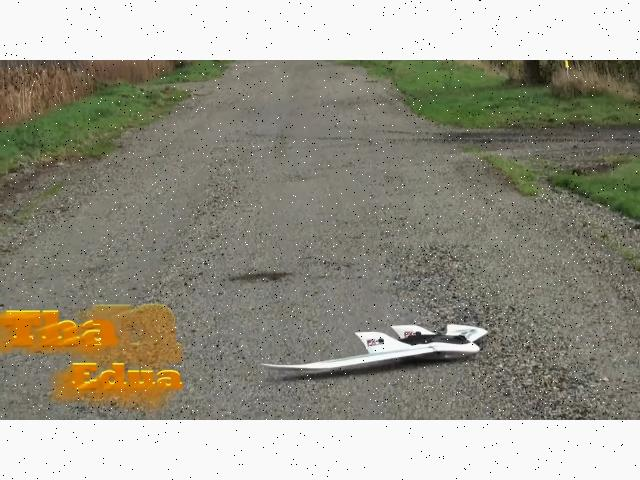Anti-Drone: (260, 321, 490, 375)
